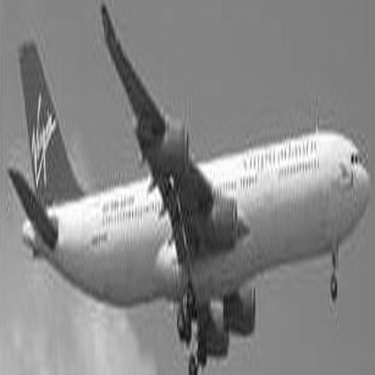airplane: (3, 1, 365, 367)
